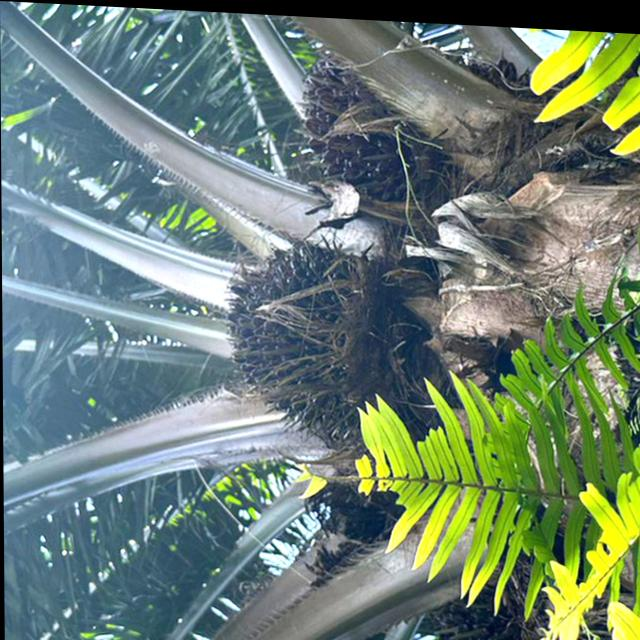unripe: (289, 32, 532, 208), (205, 227, 416, 428)
